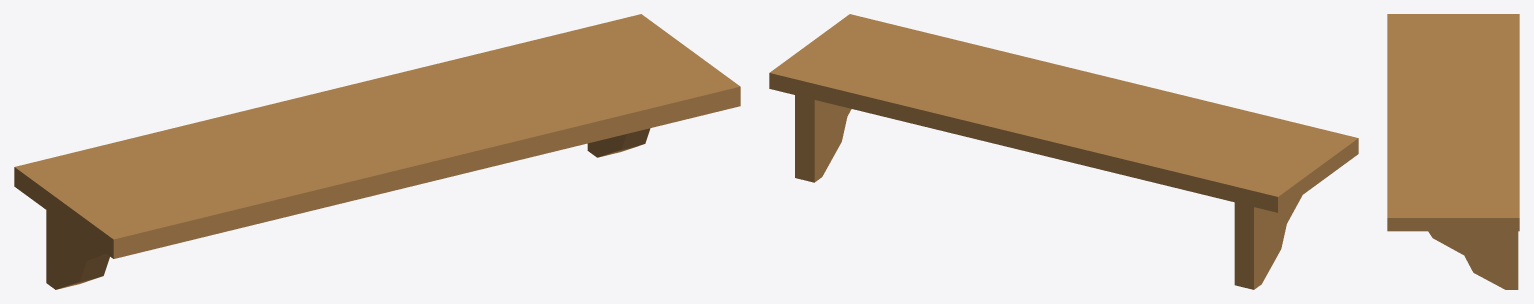
Rendered from 13_furniture_Shelf.FBX.
3 renders of one model, left to right at view 1: azimuth 30°, elevation 25°; view 2: azimuth 150°, elevation 25°; view 3: azimuth 270°, elevation 25°, orthographic. The views are drawn at different scales.
Parts seen in each view (by area): view 1: furniture_Shelf; view 2: furniture_Shelf; view 3: furniture_Shelf.
Boxes of the visible parts, <box> form: furniture_Shelf: <box>14,14,740,289</box>; furniture_Shelf: <box>769,14,1358,289</box>; furniture_Shelf: <box>1387,14,1519,289</box>.
Bounding box in the file's own units: 73.24 × 13.71 × 20.06.
